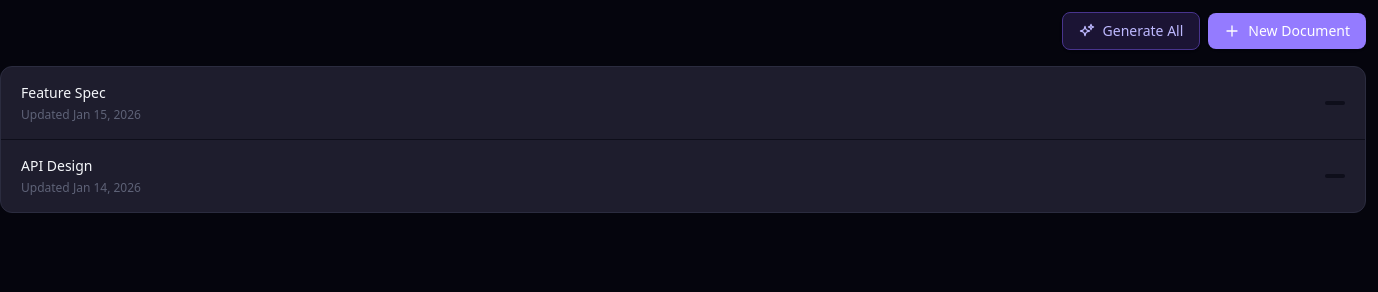
Test: DocumentList › shows success result after generation completes
Click the button with test id "generate-all-btn" at [1131, 31], box [1062,12,1200,50]
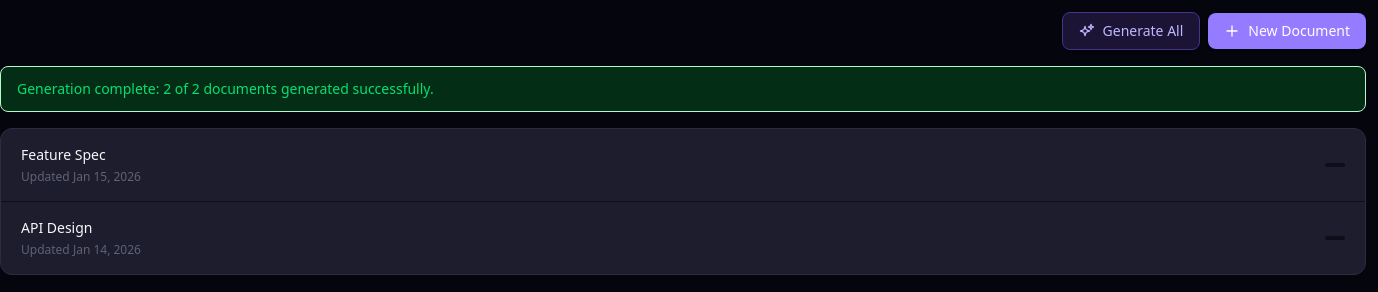
Now the element with test id "generate-all-result" is shown, box [0,66,1366,112]
Now the text "2 of 2 documents generated successfully" is shown, box [17,79,434,98]
